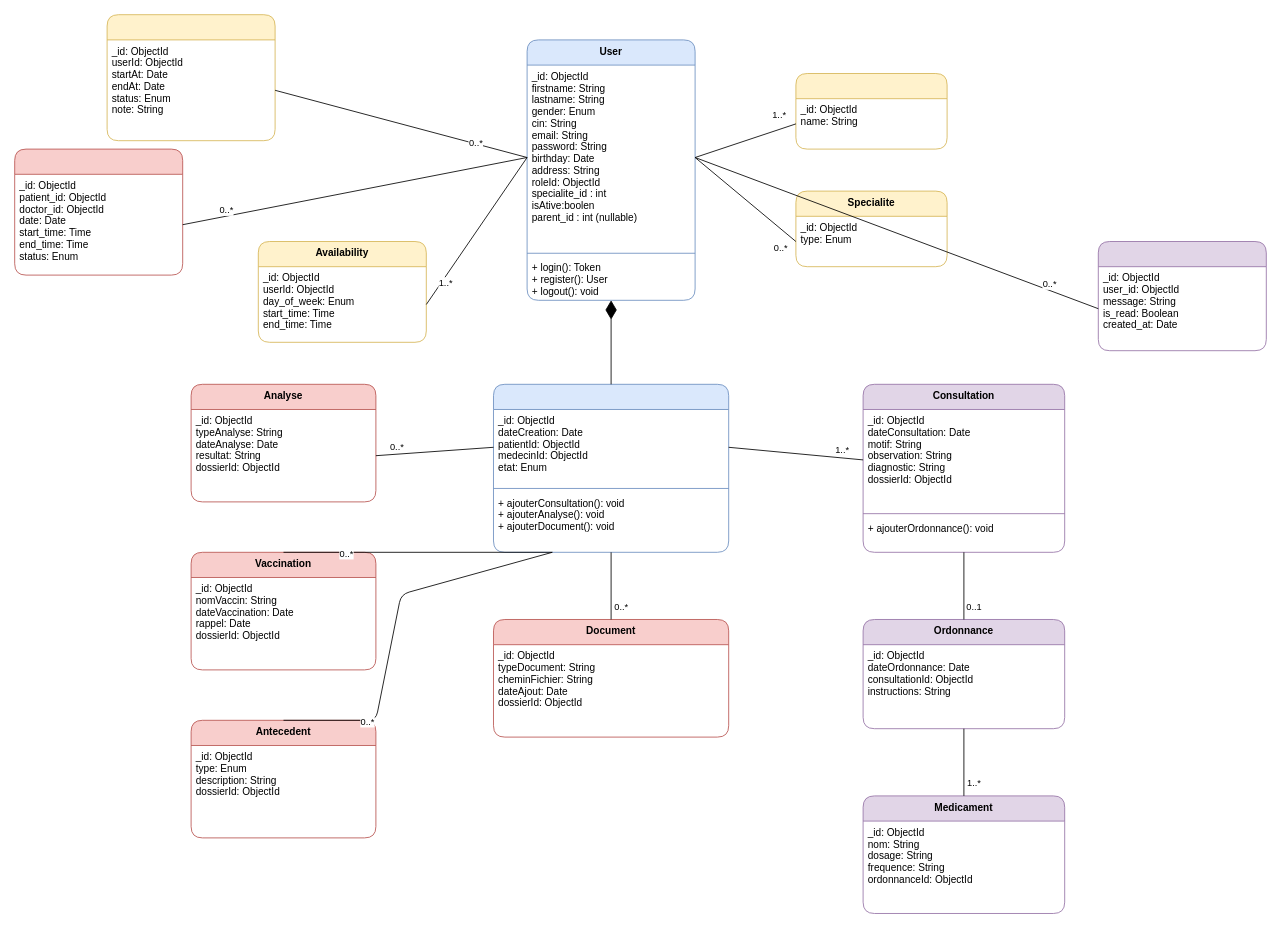
Image size: 1281x931. Some labels were removed from this diagram. The shapes that lost their labels are listed below. From the top down, each one's box as (x1, y1, x2, y2) in pixels, then its label:
(106, 14, 275, 141): Reservation
(795, 73, 947, 149): Role
(14, 148, 183, 275): Appointment
(1097, 241, 1266, 351): Notification
(493, 383, 729, 552): DossierMedical
